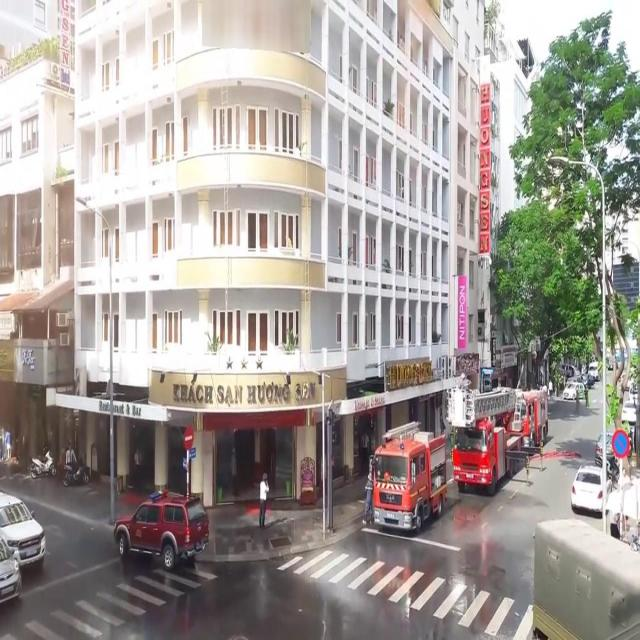car: (113, 489, 205, 565), (0, 485, 46, 569), (570, 462, 612, 518), (595, 430, 617, 466), (620, 400, 640, 426), (562, 381, 584, 398)
truck: (531, 518, 640, 640), (373, 421, 447, 534), (451, 393, 523, 491), (510, 384, 548, 453)
